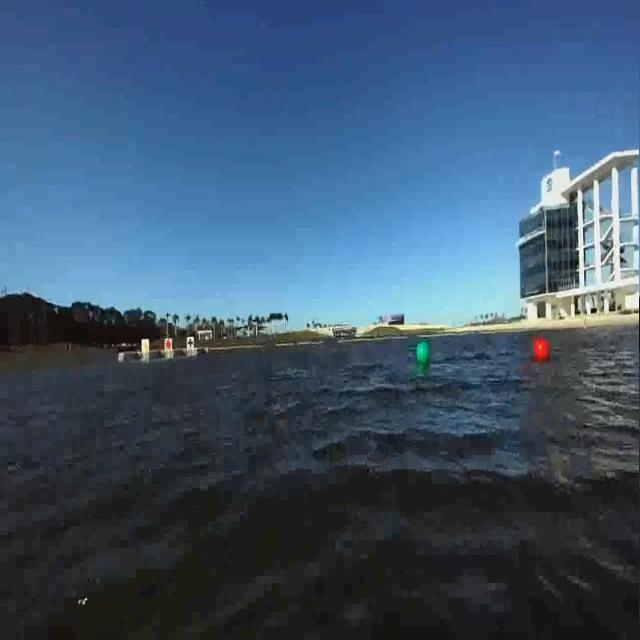green-buoy: (416, 341, 432, 366)
red-buoy: (536, 338, 554, 367)
